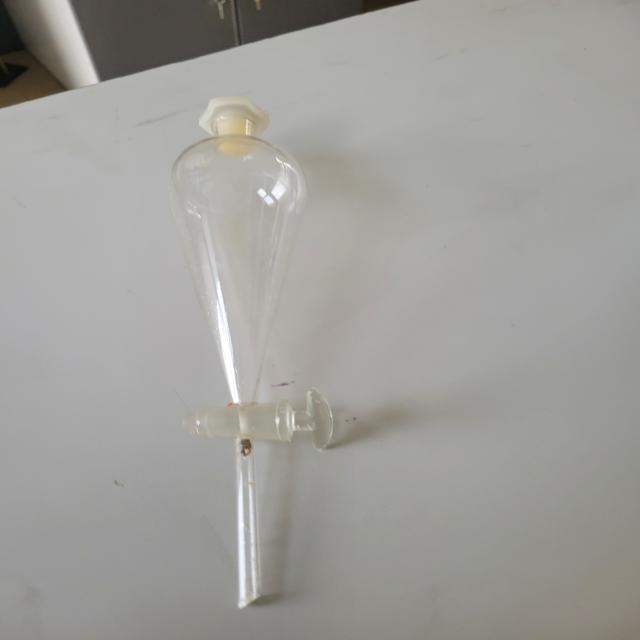Separating_Funnel: (140, 69, 397, 630)
